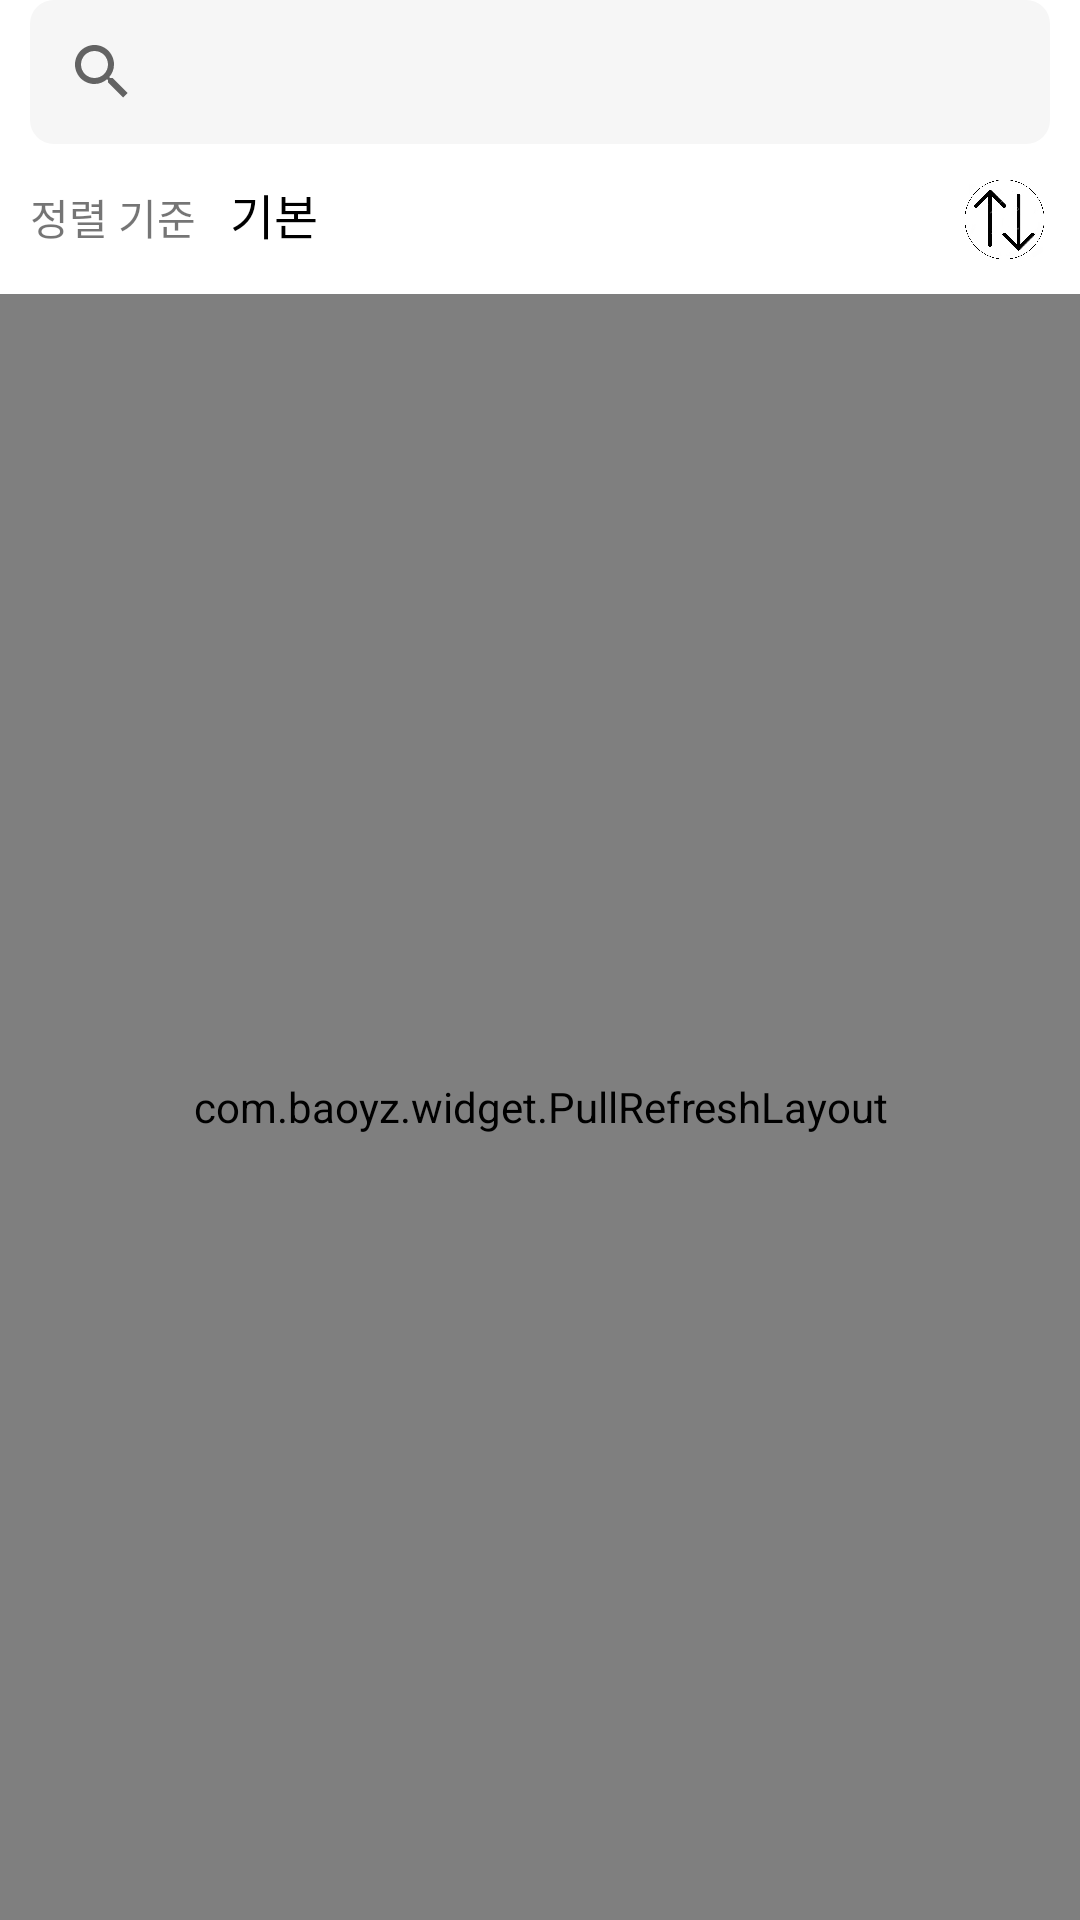

Named icons in this screenshot (1080 × 1920) and their centers, point (x, y):
orderby: point (1004, 219)
